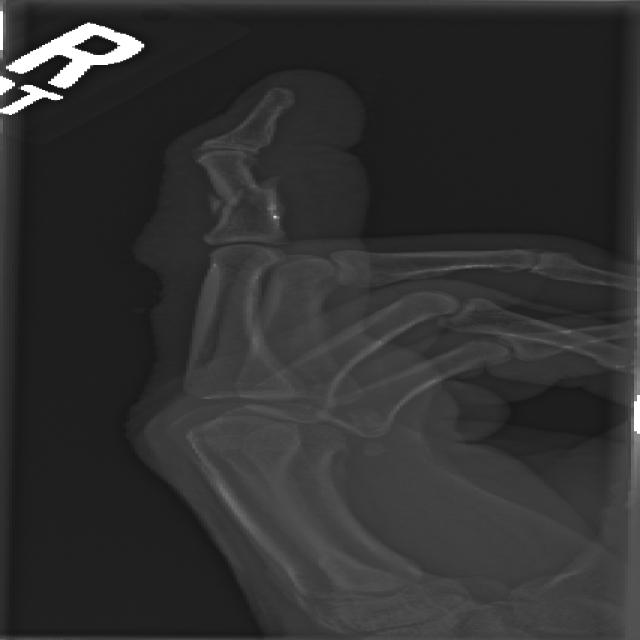fingers positive: (165, 156, 325, 242)
